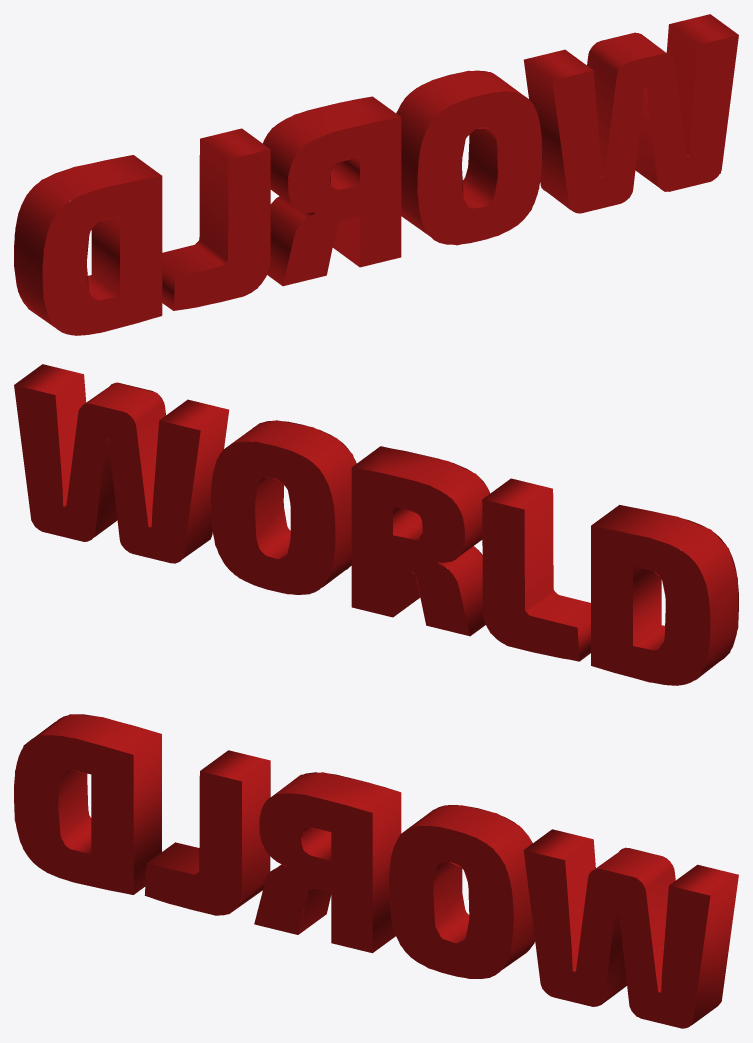
The model's file is world.fbx.
3 renders of one model, top to bottom at view 1: azimuth 30°, elevation 25°; view 2: azimuth 150°, elevation 25°; view 3: azimuth 330°, elevation 25°, orthographic.
Parts seen in each view (by area): view 1: Text; view 2: Text; view 3: Text.
Boxes of the visible parts, x1,y1,x2,y2 form: Text: [14, 14, 738, 335]; Text: [14, 364, 738, 685]; Text: [14, 714, 738, 1028].
Size of the model in its own units: 11.25 by 2.25 by 0.8.
